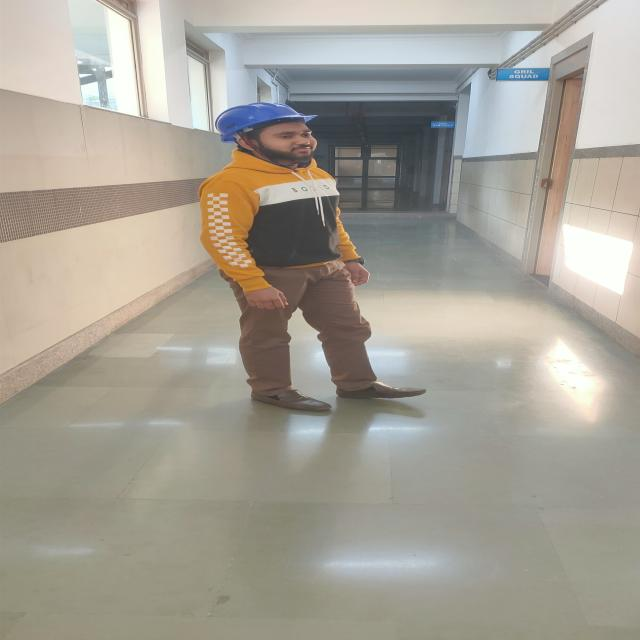no jacket: (200, 101, 428, 411)
